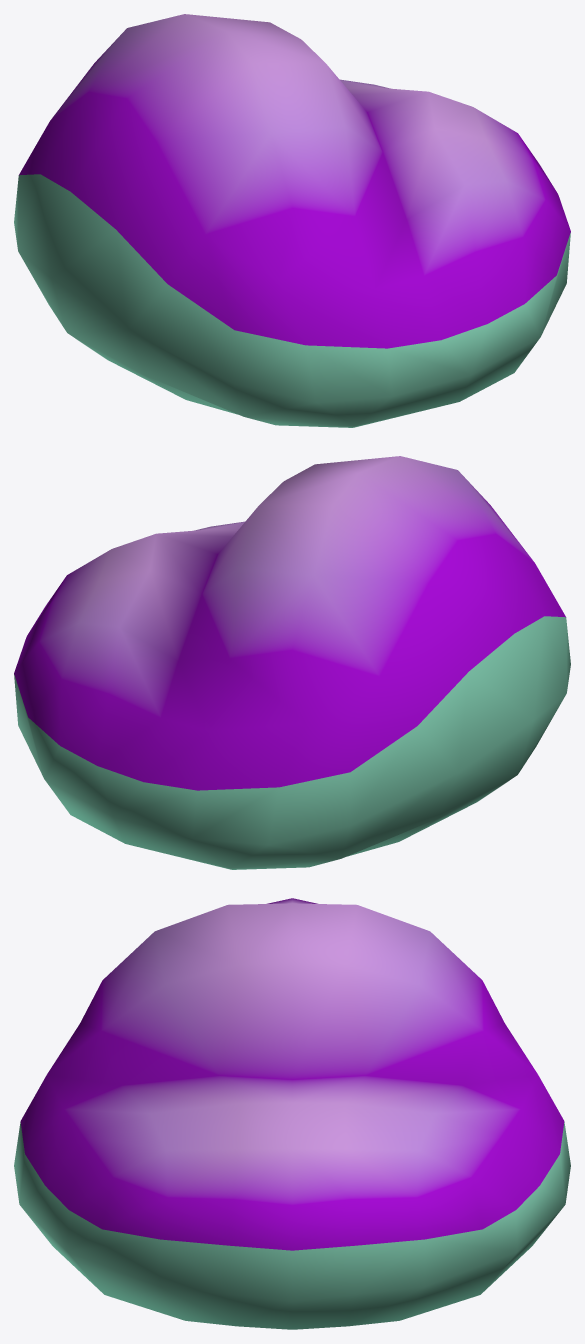
The model's file is BeanBagChairPurple.glb.
The picture shows the model from 3 angles, top to bottom: view 1: azimuth 30°, elevation 25°; view 2: azimuth 150°, elevation 25°; view 3: azimuth 270°, elevation 25°; orthographic projection. The views are drawn at different scales.
Visible parts, largest first — view 1: BeanBagChairPurple; view 2: BeanBagChairPurple; view 3: BeanBagChairPurple.
Part boxes in pixels (box(x1,y1,x2,y2)): BeanBagChairPurple: box(14, 14, 570, 427); BeanBagChairPurple: box(14, 456, 570, 869); BeanBagChairPurple: box(14, 898, 570, 1329).
Bounding box in the file's own units: 0.8571 × 0.5596 × 0.8839.
